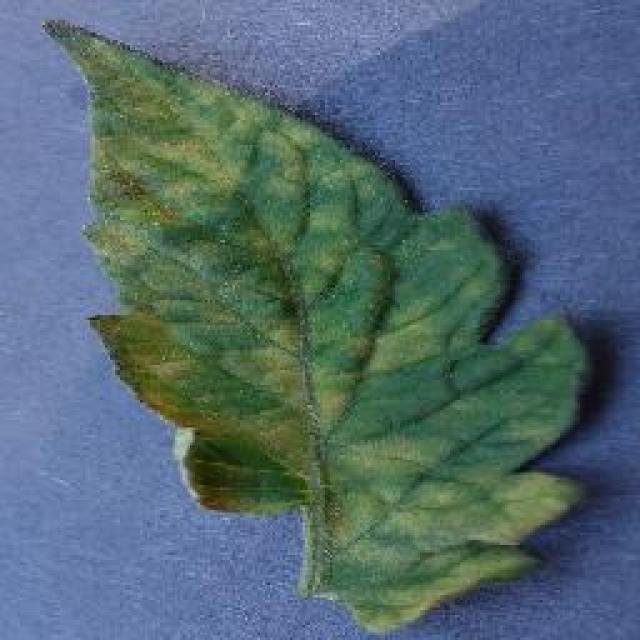Tomato___Leaf_Mold: (42, 20, 588, 630)
